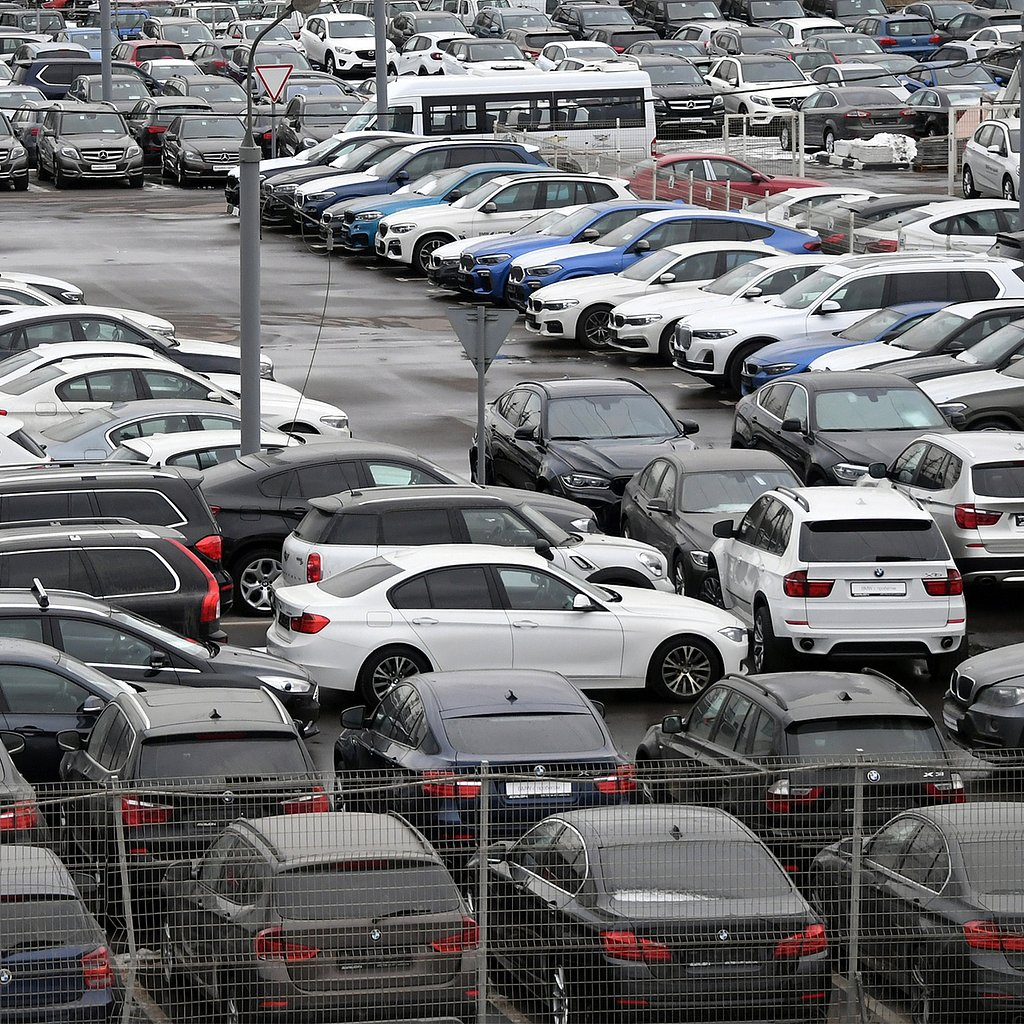Car: (465, 806, 831, 1024), (267, 546, 750, 706), (195, 445, 606, 613), (634, 667, 967, 874), (161, 813, 479, 1024), (55, 686, 334, 889), (333, 666, 639, 843), (0, 579, 321, 737), (673, 253, 1024, 395), (707, 486, 967, 677), (810, 803, 1024, 1024), (274, 486, 676, 592), (468, 375, 702, 522), (0, 462, 231, 609), (337, 70, 658, 174), (506, 209, 824, 310), (524, 241, 796, 351), (0, 516, 229, 642), (376, 171, 640, 277), (0, 638, 195, 781), (0, 358, 352, 437), (621, 449, 800, 603), (731, 372, 968, 486), (852, 432, 1024, 585), (608, 255, 850, 363), (456, 200, 707, 303), (0, 845, 124, 1024), (293, 140, 548, 227), (0, 304, 277, 380), (740, 302, 955, 394), (341, 163, 558, 252), (0, 340, 307, 397), (807, 298, 1024, 372), (32, 400, 283, 463), (225, 129, 425, 205), (262, 137, 446, 211), (604, 152, 835, 210), (428, 206, 583, 290), (319, 167, 458, 243), (0, 278, 175, 338), (100, 429, 360, 468), (796, 194, 961, 254), (870, 319, 1024, 383), (851, 197, 1024, 253), (35, 100, 145, 188), (614, 52, 727, 137), (941, 641, 1024, 756), (777, 86, 918, 152), (702, 55, 819, 128), (918, 358, 1024, 432), (160, 111, 247, 187), (9, 58, 162, 100), (299, 13, 396, 75), (274, 91, 364, 157), (122, 96, 214, 160), (0, 731, 48, 844), (9, 99, 82, 168), (961, 117, 1020, 202), (732, 187, 878, 221), (903, 85, 993, 138), (632, 0, 745, 39), (808, 63, 912, 102), (777, 193, 901, 225), (387, 32, 475, 77), (850, 13, 940, 57), (439, 37, 543, 75), (224, 42, 313, 86), (242, 70, 357, 104), (162, 73, 257, 114), (897, 60, 1002, 95), (223, 19, 309, 59), (389, 9, 470, 50), (64, 74, 151, 112), (137, 15, 215, 57), (932, 9, 1024, 43), (549, 4, 638, 39), (423, 0, 518, 32), (498, 26, 576, 63), (0, 271, 87, 304), (801, 0, 889, 32), (0, 415, 50, 469), (706, 26, 795, 56), (798, 33, 886, 63), (534, 41, 619, 72), (753, 46, 839, 76), (669, 22, 749, 54), (170, 3, 241, 39), (5, 42, 90, 72), (236, 105, 286, 156), (892, 0, 978, 29), (718, 0, 806, 28), (474, 7, 555, 37), (766, 18, 848, 47), (76, 9, 151, 40), (260, 79, 346, 106), (0, 110, 29, 190), (338, 0, 423, 27), (586, 24, 662, 54), (55, 28, 123, 59), (0, 10, 67, 41), (188, 40, 247, 75), (921, 39, 1018, 60), (111, 40, 186, 66), (974, 44, 1020, 85), (841, 54, 919, 77), (259, 2, 306, 39), (0, 85, 48, 120), (138, 59, 206, 83), (0, 34, 54, 61), (623, 39, 703, 57), (985, 231, 1024, 262), (966, 24, 1024, 44), (552, 58, 639, 71), (356, 77, 401, 102), (303, 0, 339, 19), (969, 0, 1024, 11), (0, 3, 27, 20), (0, 57, 14, 85)
